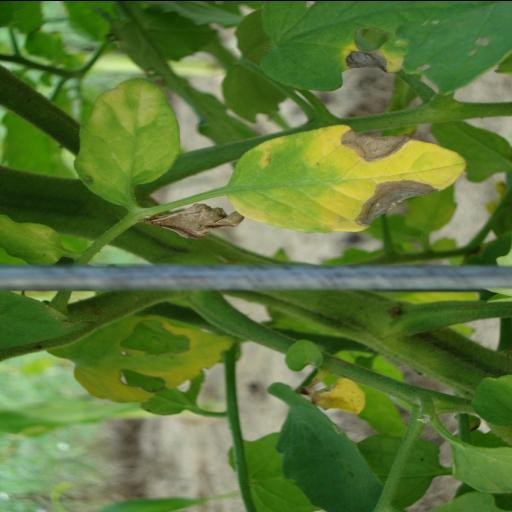Early Blight: (222, 129, 466, 235)
